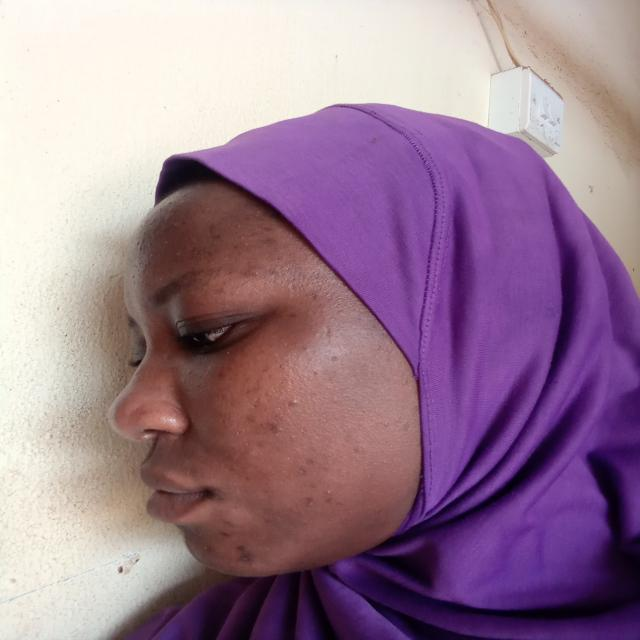Acne: (206, 368, 305, 444), (190, 215, 290, 277), (290, 300, 354, 379), (290, 443, 358, 515), (207, 515, 261, 570)
